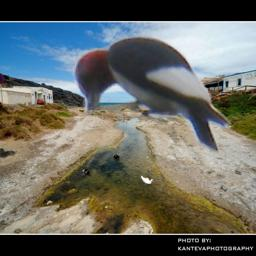Woodpecker: (68, 32, 235, 156)
